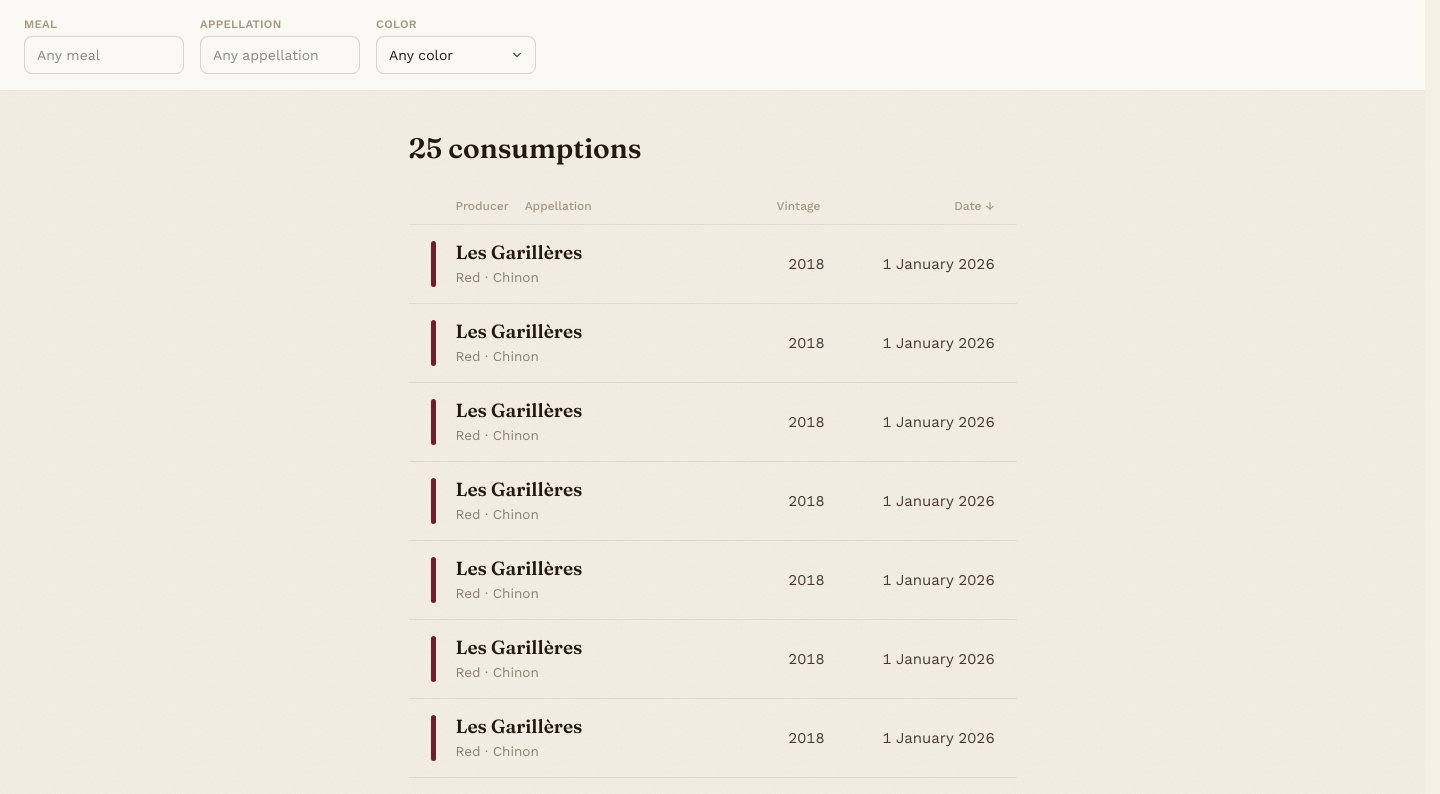
Scenario: ConsumptionHistoryView sort › resets to page 1 when the sort changes
This screenshot has width=1440, height=794.
Click the button with test id "sort-header-producer".
click(484, 206)  # box [456, 198, 513, 214]
(page scrolled)
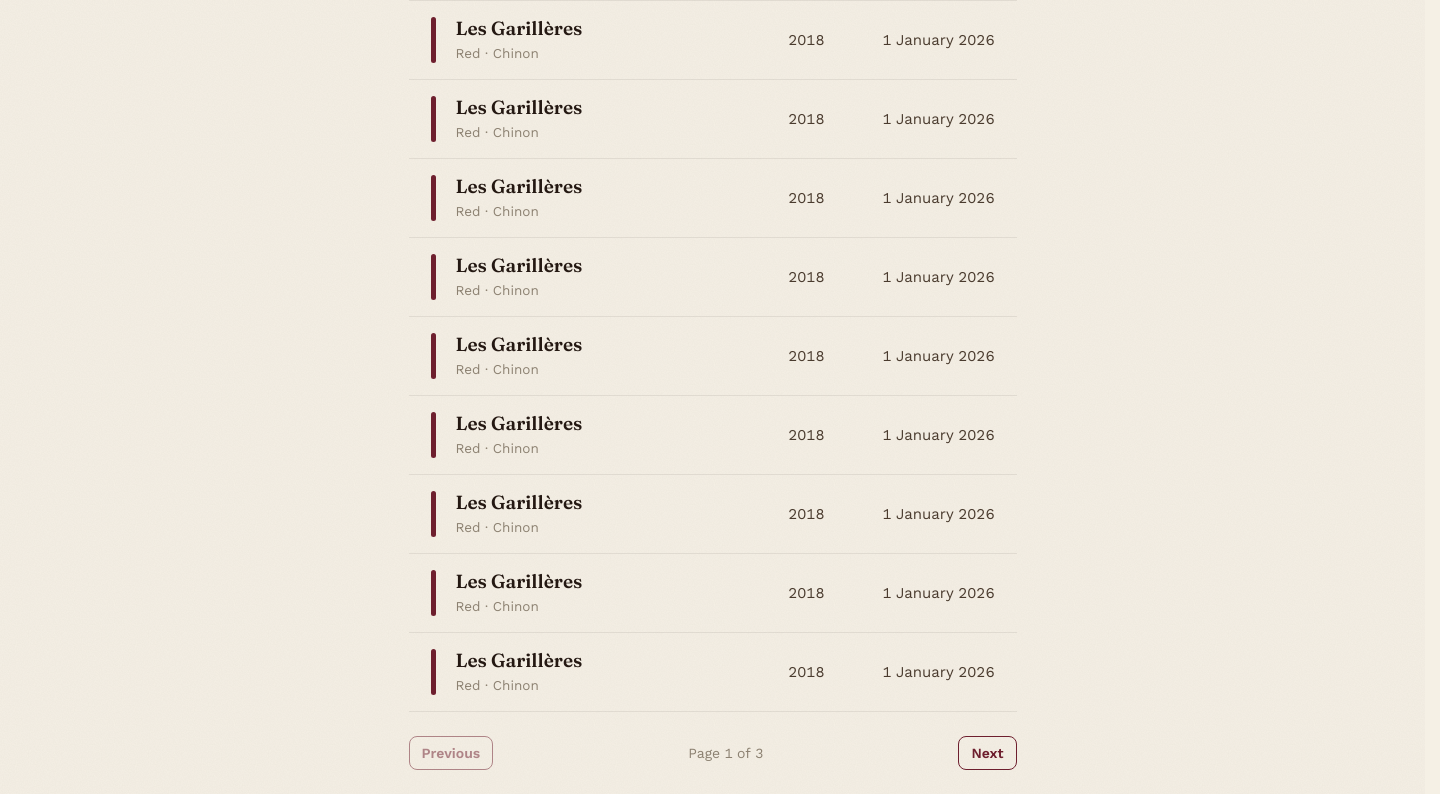
Check: the text with test id "pagination-status" reads "Page 1 of 3", box [688, 745, 764, 761]
